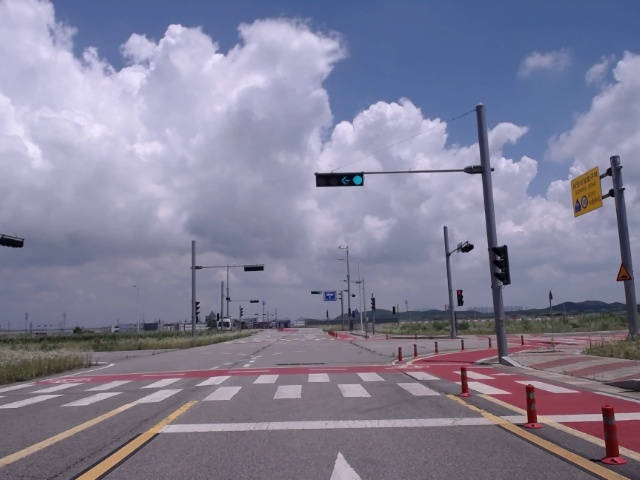all_green_4: (317, 173, 365, 184)
